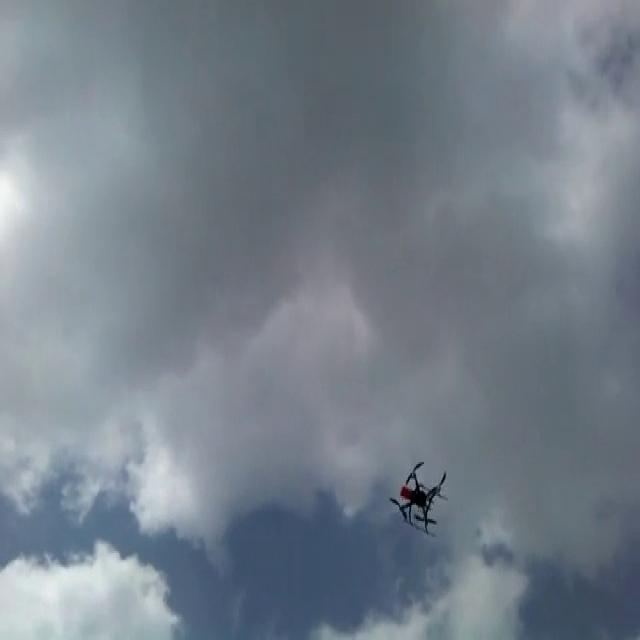drone: (388, 455, 451, 537)
